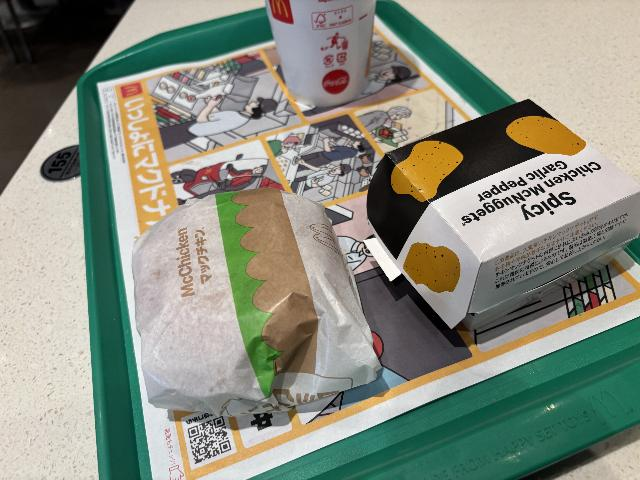burger: (130, 185, 384, 417)
drink: (261, 0, 379, 104)
nuggets: (368, 97, 640, 333)
